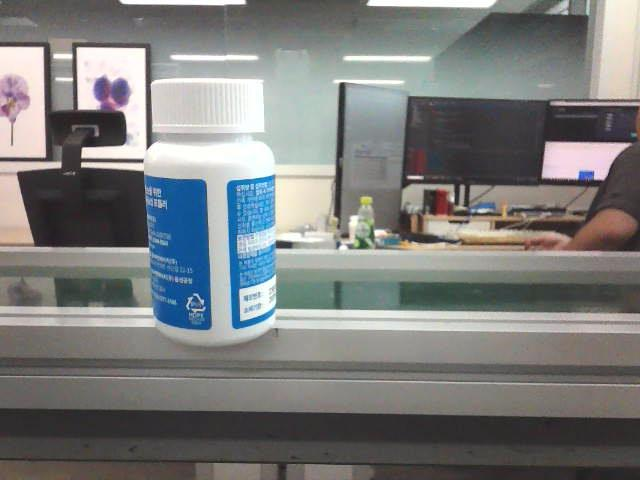labeled: (144, 74, 281, 350)
